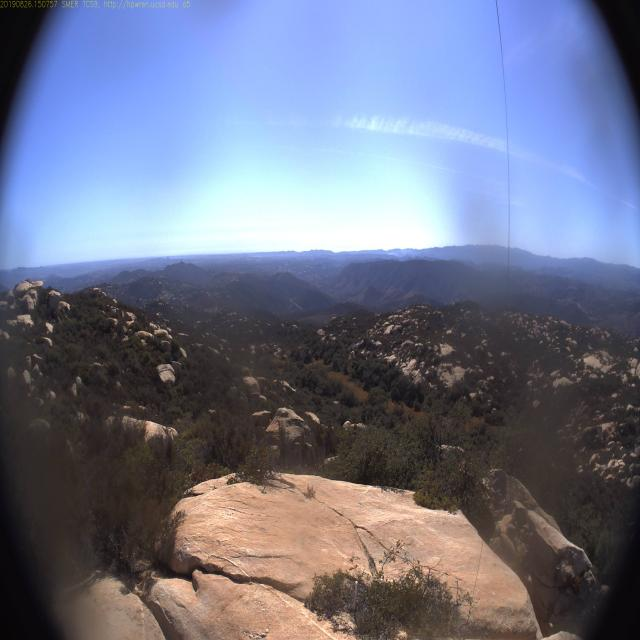smoke: (386, 248, 394, 256)
